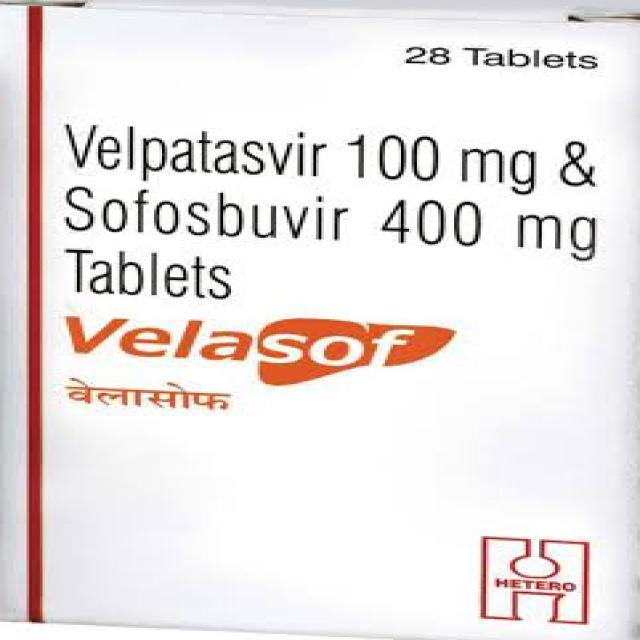drug-name: (56, 316, 421, 378)
